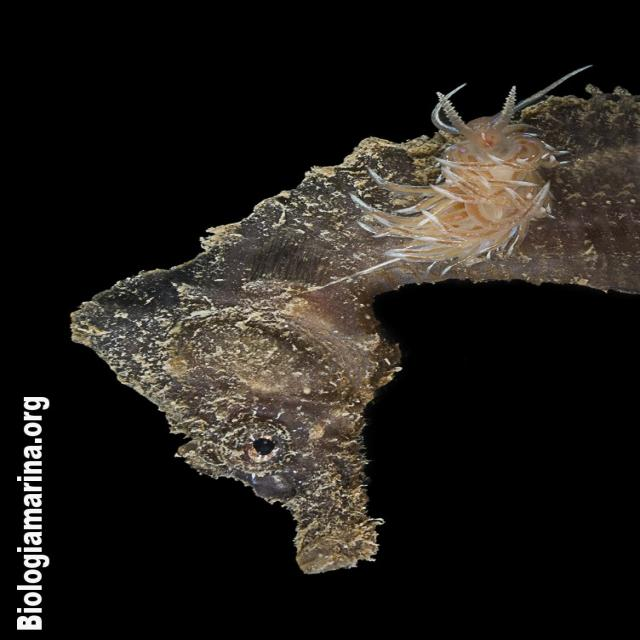Hippo: (56, 279, 418, 586)
